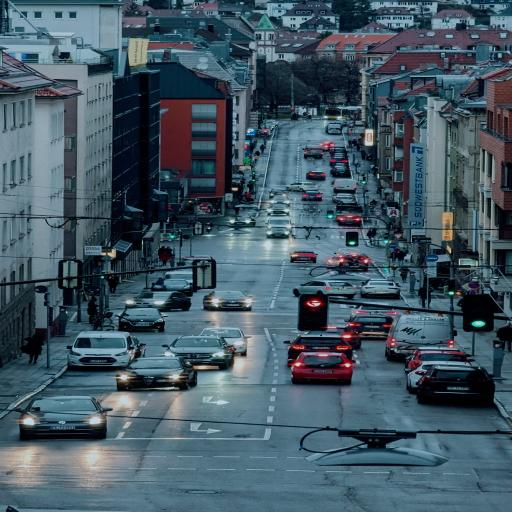bike: (93, 311, 115, 330)
car: (15, 396, 112, 439), (385, 312, 456, 360), (417, 365, 495, 405), (67, 331, 145, 368), (117, 357, 197, 390), (163, 335, 235, 369), (405, 362, 479, 394), (284, 333, 353, 366), (292, 352, 352, 384), (201, 327, 251, 356), (406, 348, 474, 369), (118, 307, 167, 332), (126, 292, 190, 310), (293, 280, 357, 298), (348, 314, 393, 337), (203, 291, 252, 310), (351, 303, 400, 320), (361, 279, 400, 298), (337, 250, 371, 271), (152, 279, 192, 296), (163, 269, 192, 284), (336, 200, 363, 216), (315, 268, 347, 280), (290, 250, 317, 263), (334, 178, 357, 193), (234, 204, 259, 217), (268, 216, 292, 229), (336, 214, 362, 226), (287, 182, 318, 192), (183, 256, 213, 265), (229, 216, 255, 226), (331, 166, 352, 178), (267, 204, 289, 215), (332, 193, 356, 203), (266, 227, 290, 237), (327, 255, 345, 267), (303, 147, 322, 158), (326, 123, 343, 135), (302, 191, 322, 201), (269, 188, 288, 198), (269, 196, 290, 205), (330, 155, 347, 166), (306, 171, 326, 180), (319, 141, 335, 151)
